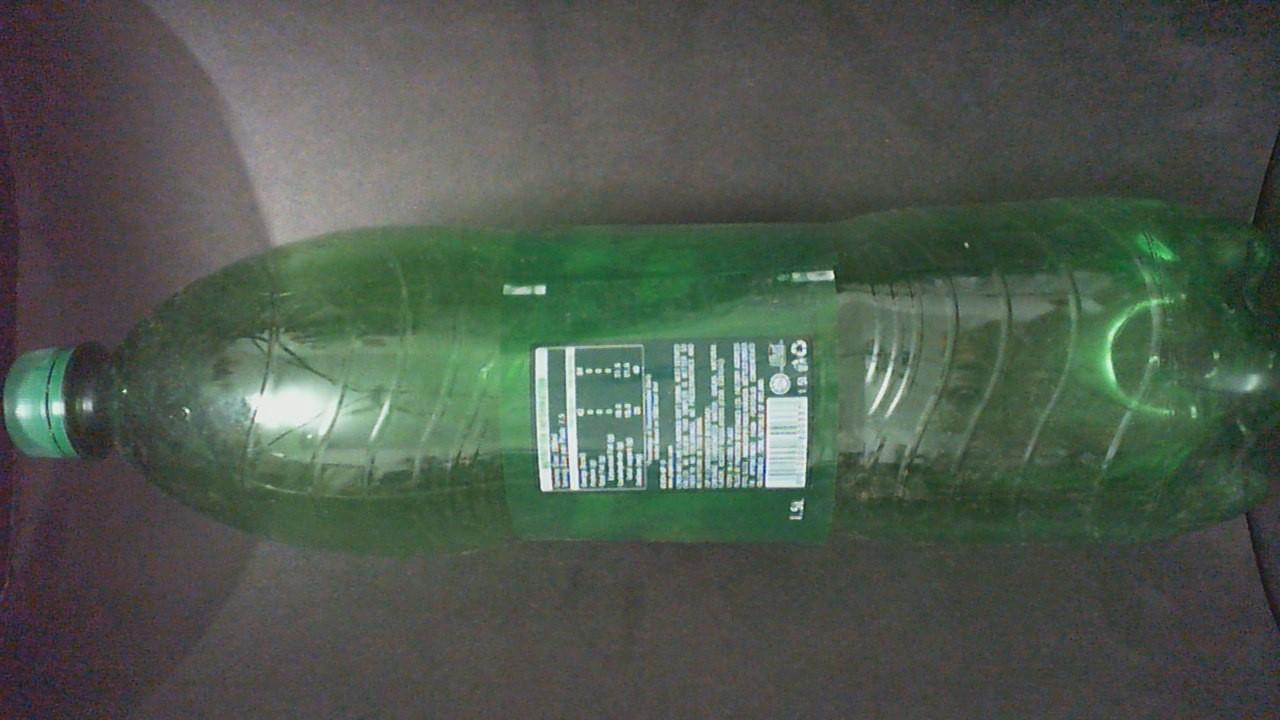Bottle: (0, 197, 1279, 554)
